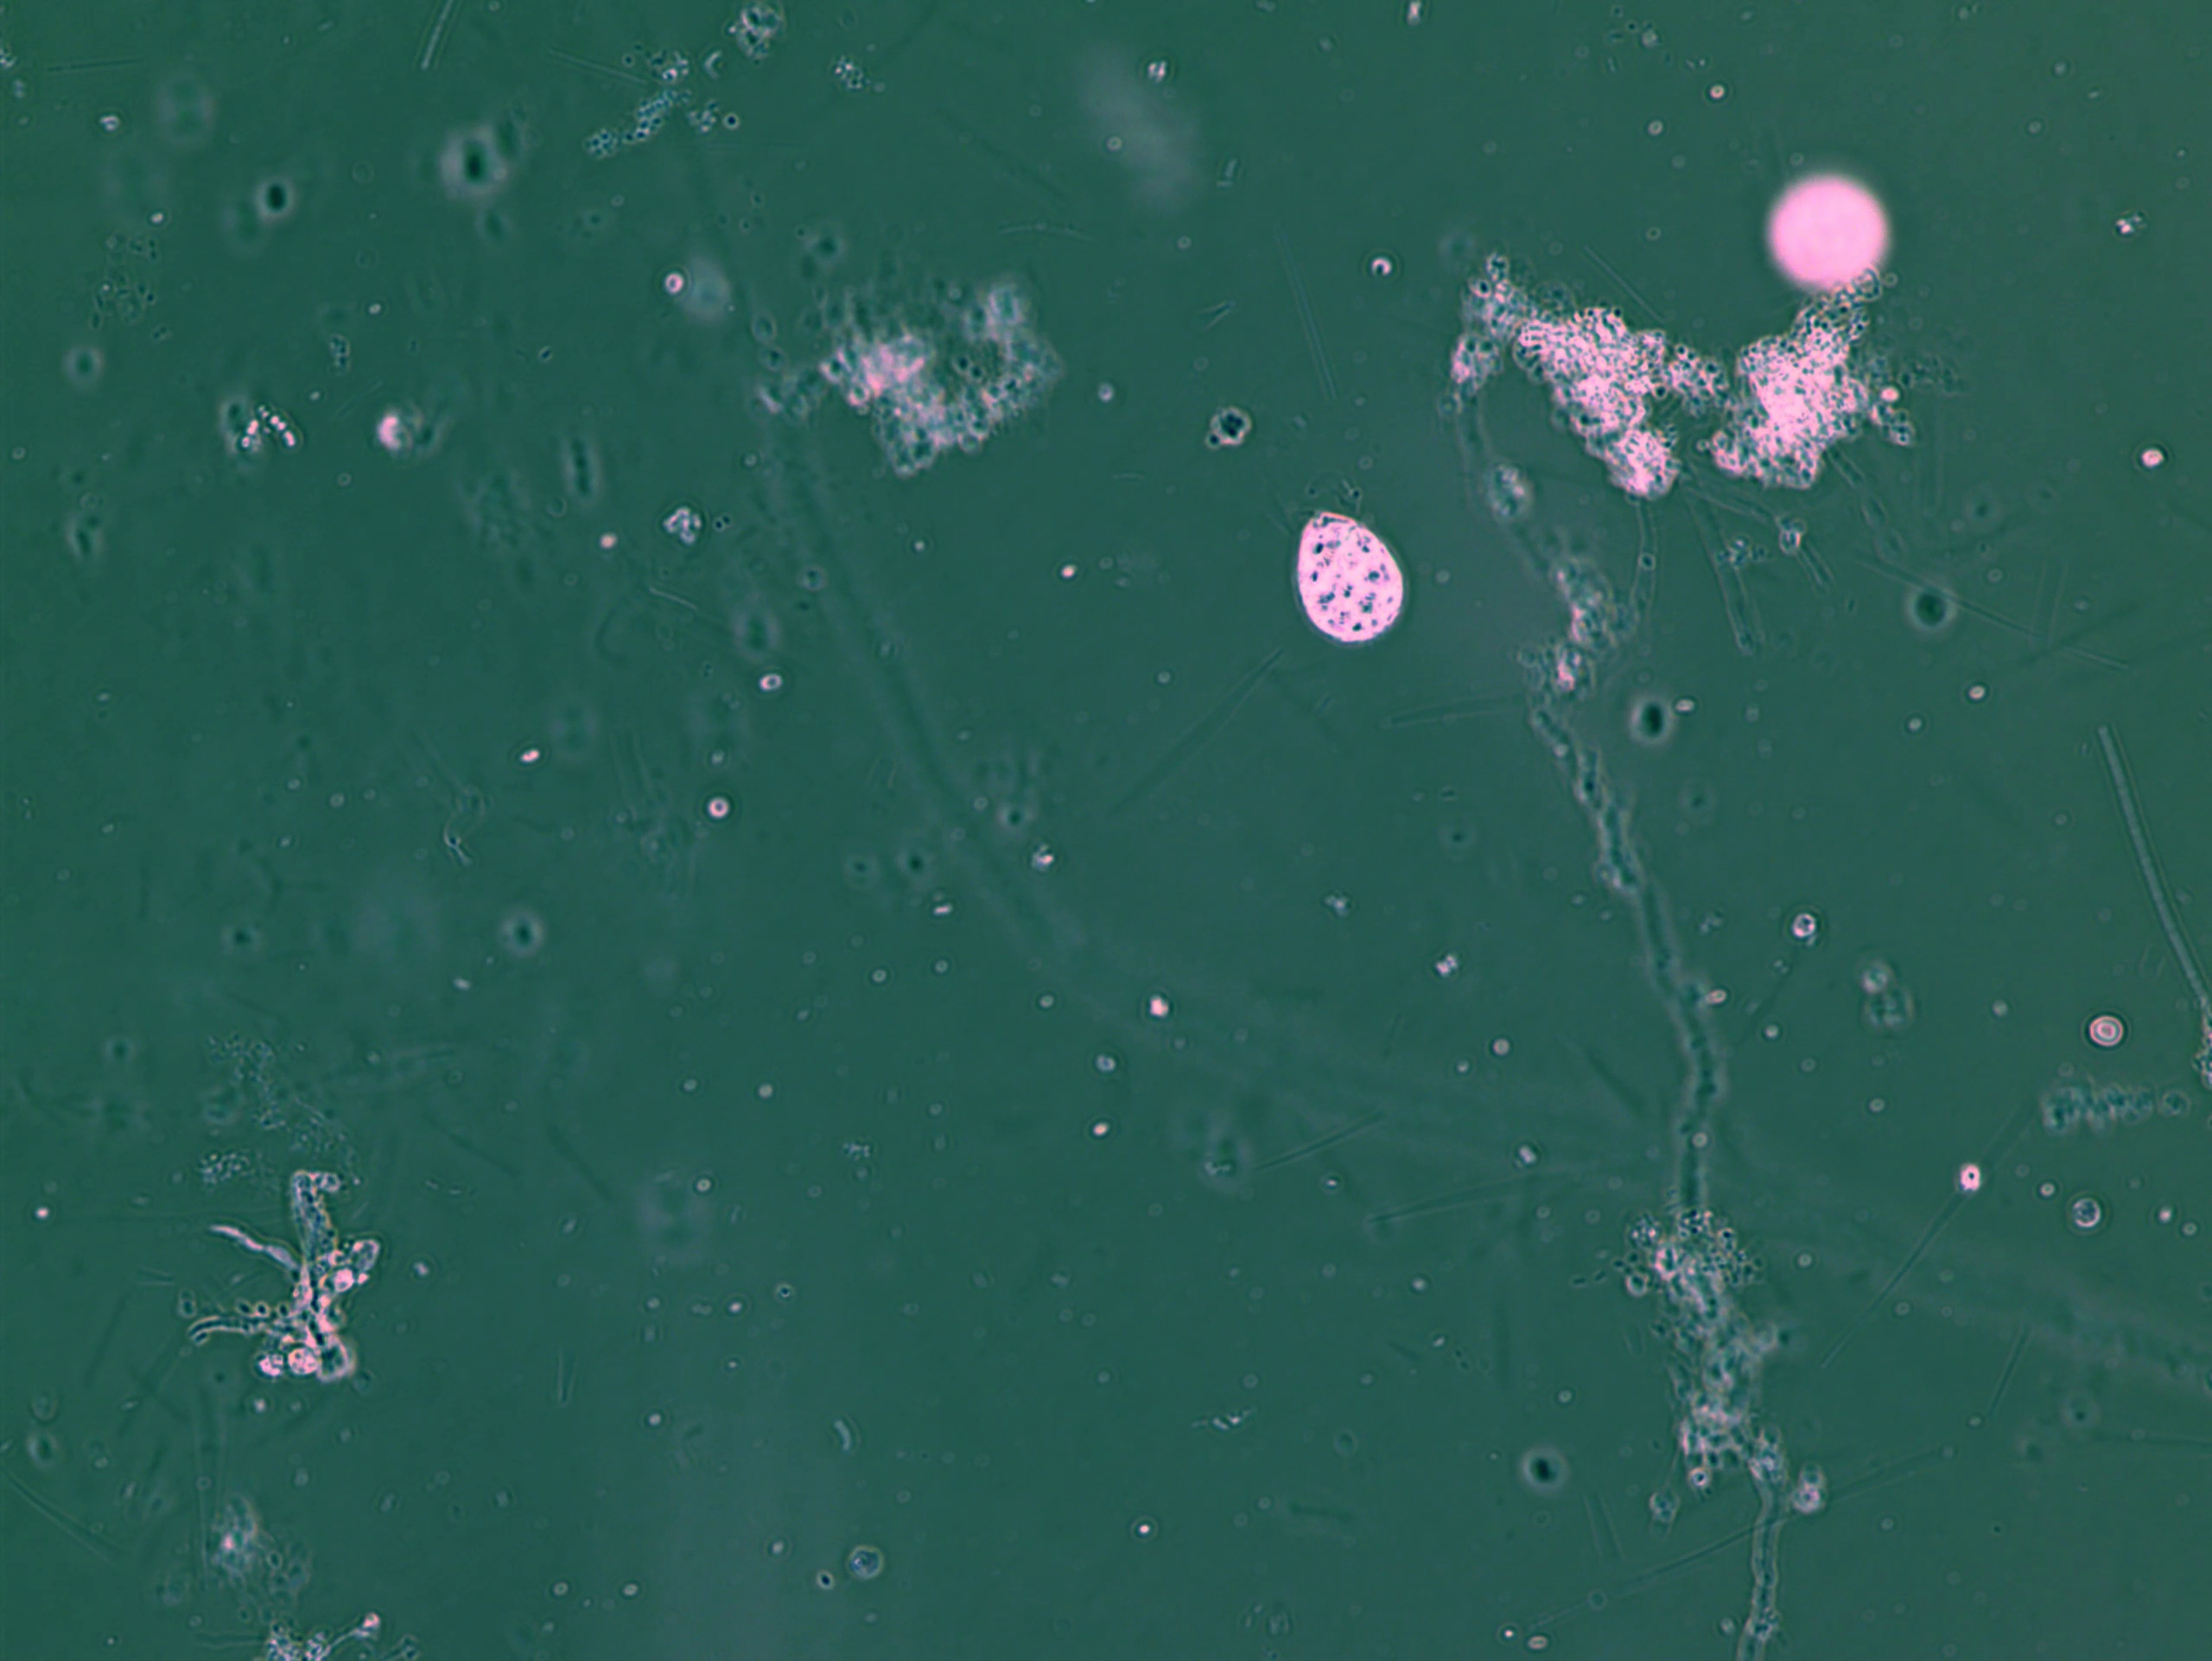depth:0: (1256, 502, 1430, 660)
